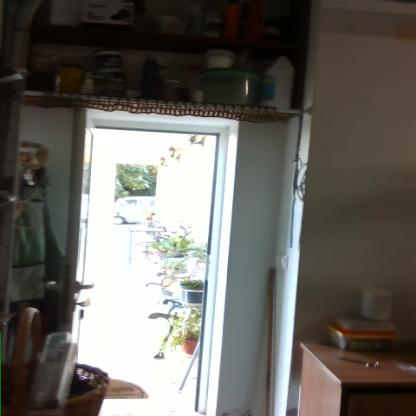open: (59, 106, 245, 413)
